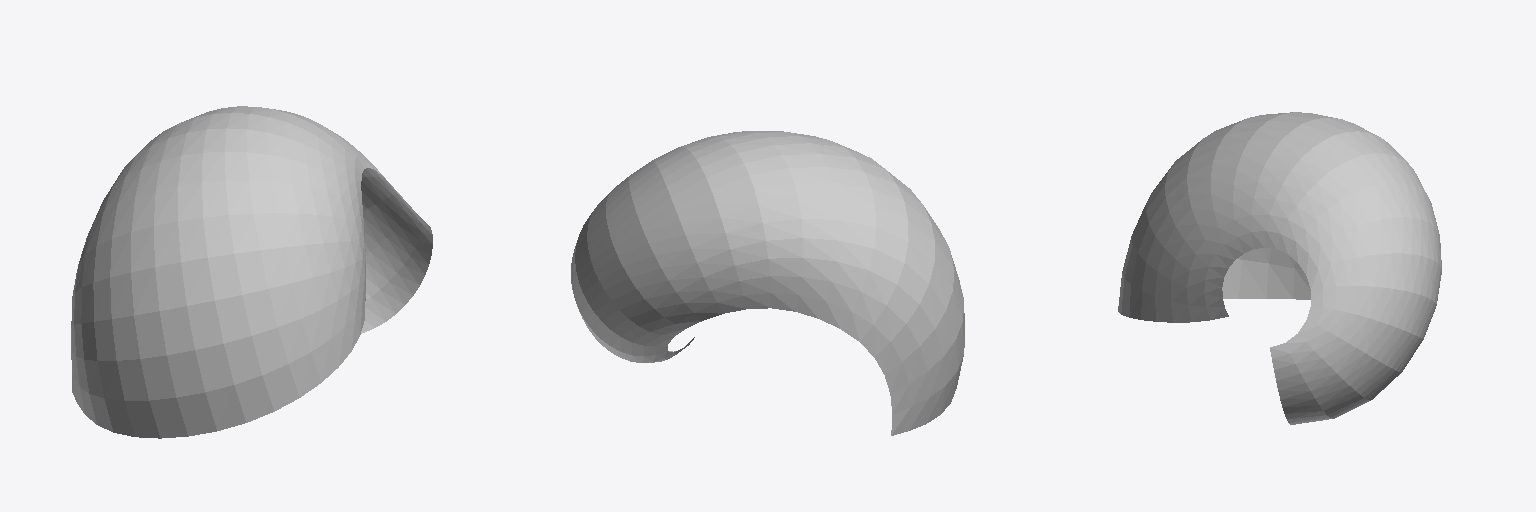
File: Last_ex_5_inv_1_start.obj
3 views of the same model, side by side, from view 1: azimuth 30°, elevation 25°; view 2: azimuth 150°, elevation 25°; view 3: azimuth 270°, elevation 25° (orthographic).
Parts seen in each view (by area): view 1: [local-path]/hanan/hananLab/QS_project/data/Remeshing/Last_ex_5_; view 2: [local-path]/hanan/hananLab/QS_project/data/Remeshing/Last_ex_5_; view 3: [local-path]/hanan/hananLab/QS_project/data/Remeshing/Last_ex_5_.
Boxes of the visible parts, <box> form: [local-path]/hanan/hananLab/QS_project/data/Remeshing/Last_ex_5_: <box>71,106,432,438</box>; [local-path]/hanan/hananLab/QS_project/data/Remeshing/Last_ex_5_: <box>571,131,964,435</box>; [local-path]/hanan/hananLab/QS_project/data/Remeshing/Last_ex_5_: <box>1118,112,1441,424</box>.
Bounding box in the file's own units: 3.57 × 2.42 × 2.88.